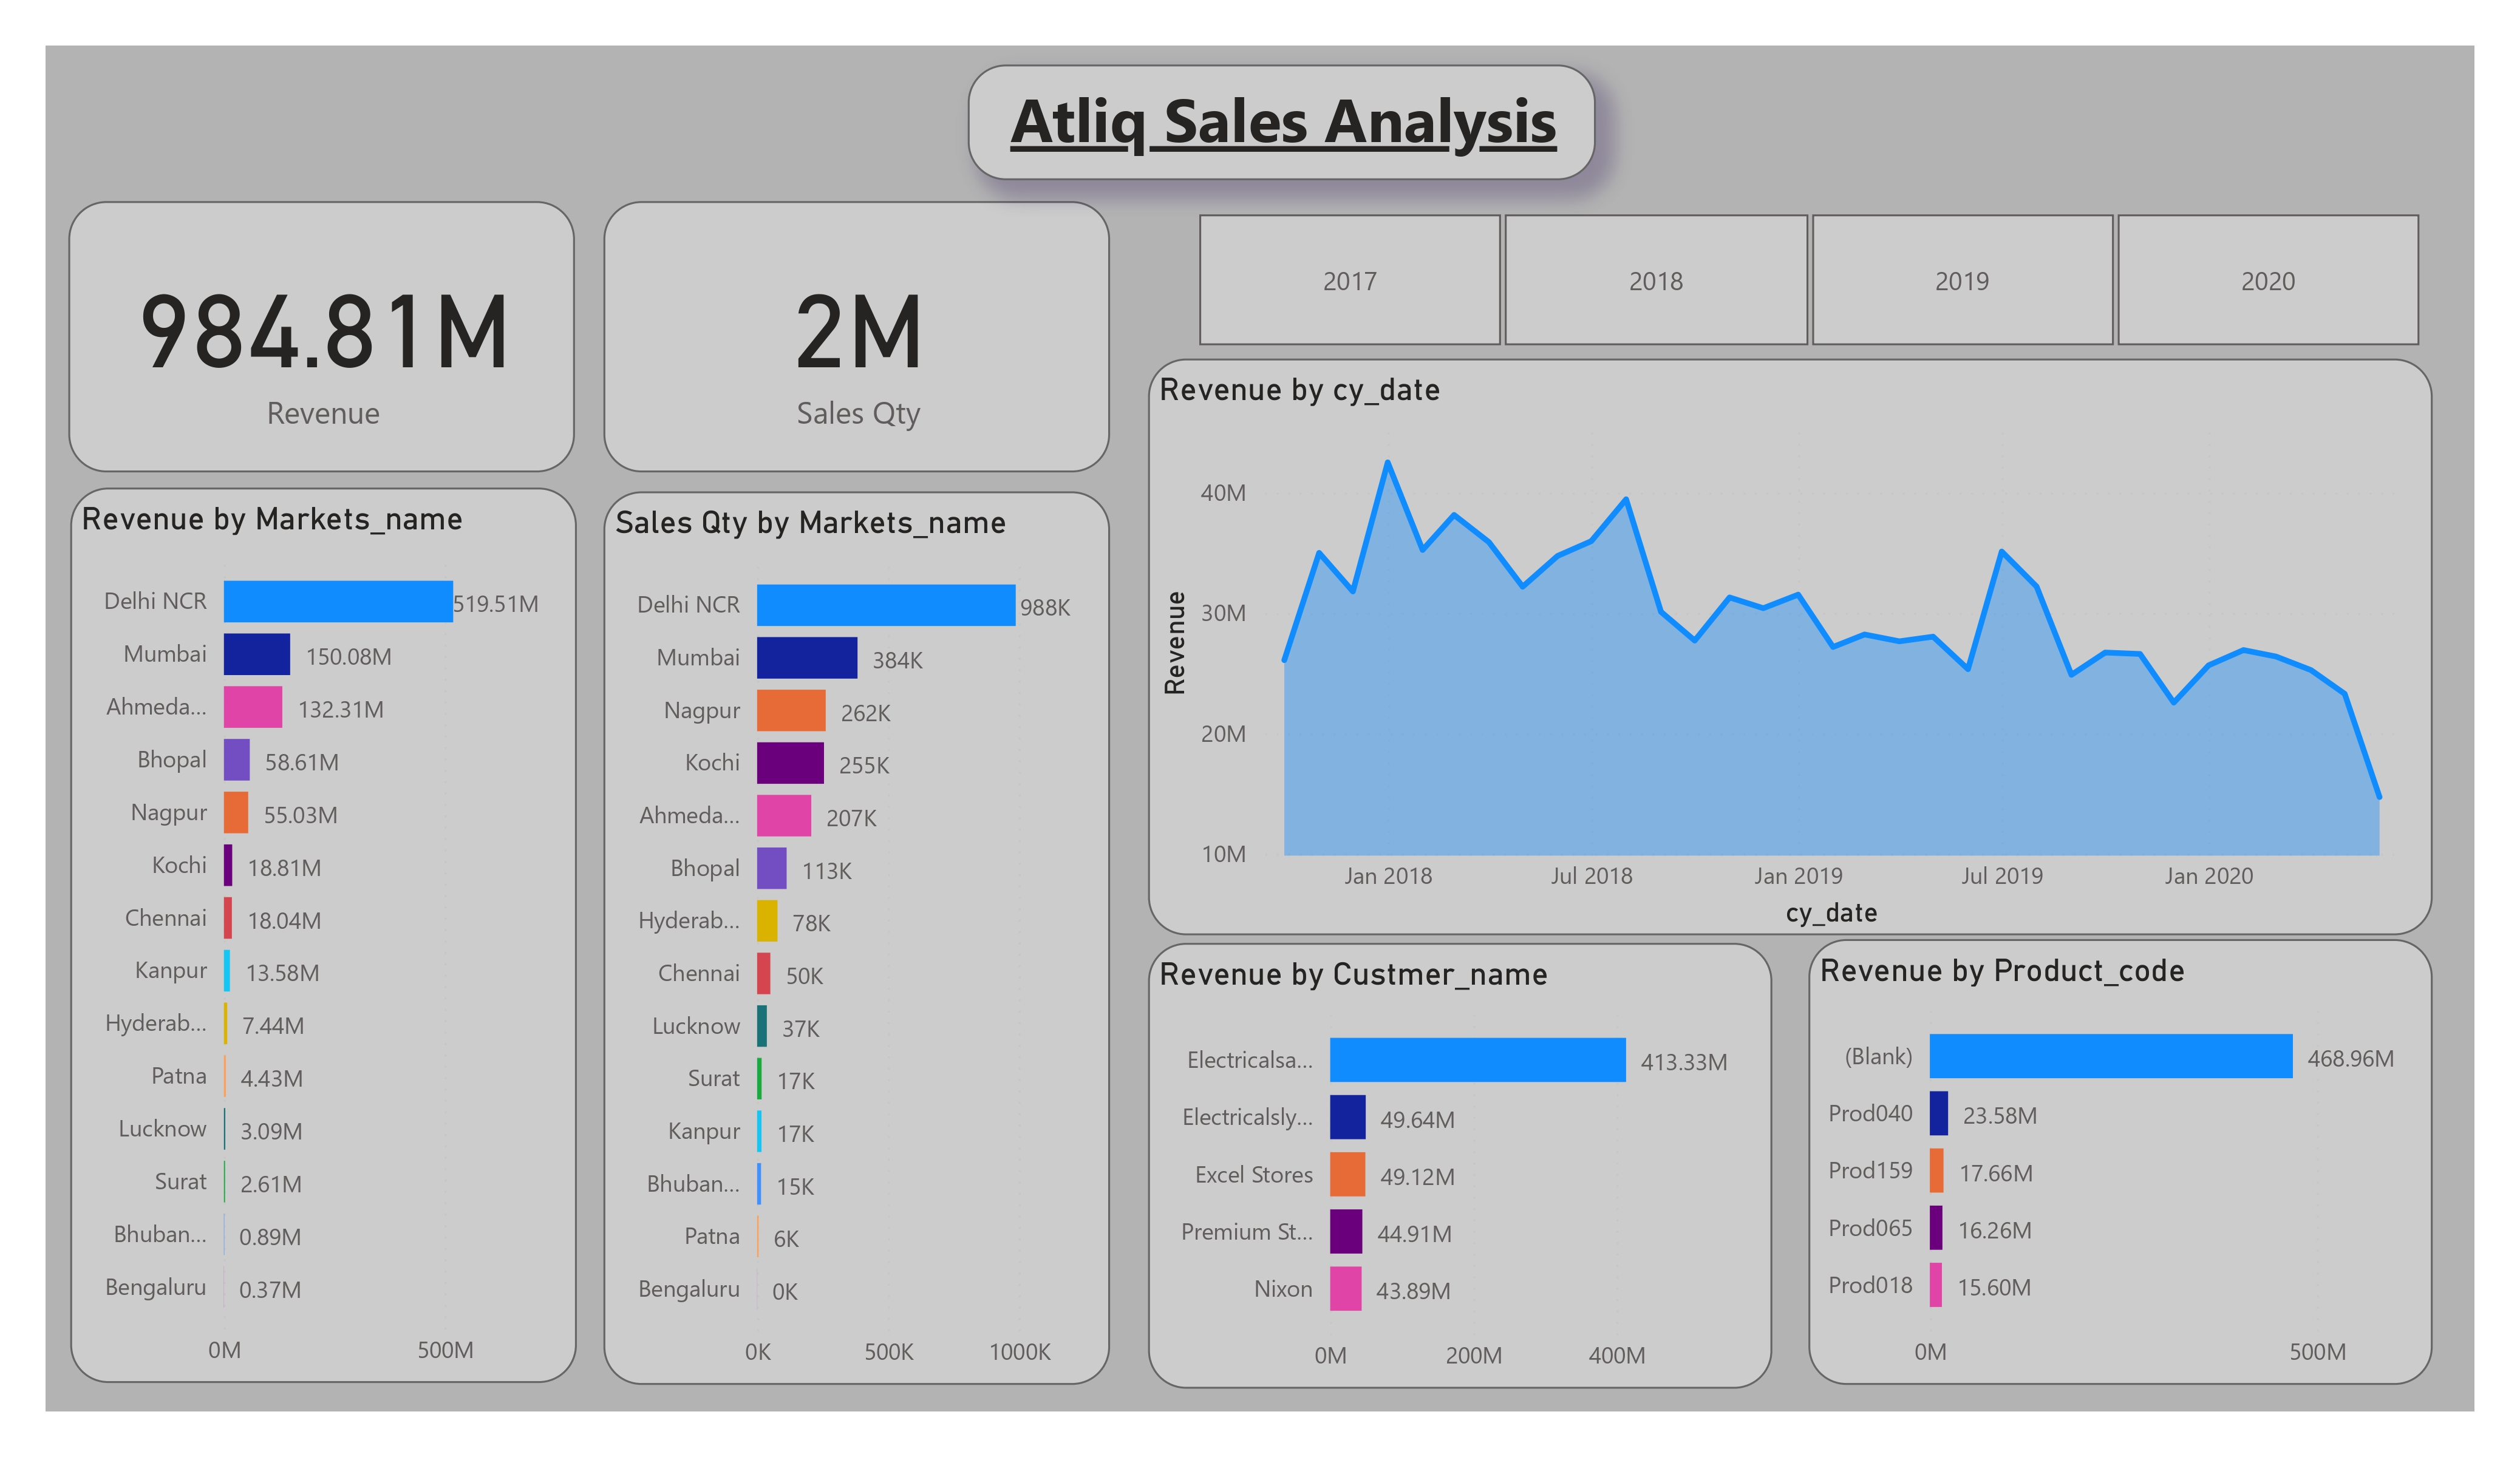

The page's visual inventory and layout, read from the dashboard file:
{"tool":"powerbi","page":{"name":"Page 1","canvas":[1280,720],"ordinal":0},"visuals":[{"type":"card","fields":{"Values":["All Measures.Revenue"]},"box":[12.3,82.5,267.1,142.8],"z":0},{"type":"card","fields":{"Values":["All Measures.Sales Qty"]},"box":[294.2,82.5,267.1,142.8],"z":1000},{"type":"barChart","title":"Revenue by Markets_name","fields":{"Category":["sales markets.markets_name"],"Y":["All Measures.Revenue"],"Series":["sales markets.markets_name"]},"box":[12.6,233.4,267.1,472],"z":2000},{"type":"barChart","title":"Sales Qty by Markets_name","fields":{"Category":["sales markets.markets_name"],"Y":["All Measures.Sales Qty"],"Series":["sales markets.markets_name"]},"box":[294.2,235.1,267.1,471.4],"z":3000},{"type":"slicer","fields":{"Values":["sales date.year"]},"box":[582.2,82.5,692.9,82.5],"z":4000},{"type":"barChart","title":"Revenue by Custmer_name","fields":{"Category":["sales customers.custmer_name"],"Y":["All Measures.Revenue"],"Series":["sales customers.custmer_name"]},"box":[580.9,472.6,328.6,235.1],"z":5000},{"type":"barChart","title":"Revenue by Product_code","fields":{"Y":["All Measures.Revenue"],"Category":["sales products.product_code"],"Series":["sales products.product_code"]},"box":[929.2,471.4,328.6,235.1],"z":6000},{"type":"areaChart","fields":{"Category":["sales date.cy_date"],"Y":["All Measures.Revenue"]},"box":[580.9,164.9,676.9,304],"z":7000},{"type":"textbox","box":[486.2,9.8,331.1,61.5],"z":8000}]}

Visuals, with their boxes on the page's 1280x720 design canvas (x1, y1, x2, y2). These are canvas units, not pixel positions in the 2520x1457 screenshot, which may show the page scaled, cropped or inside an application window:
card - All Measures.Revenue: <region>12, 82, 279, 225</region>
card - All Measures.Sales Qty: <region>294, 82, 561, 225</region>
"Revenue by Markets_name" barChart: <region>13, 233, 280, 705</region>
"Sales Qty by Markets_name" barChart: <region>294, 235, 561, 706</region>
slicer - sales date.year: <region>582, 82, 1275, 165</region>
"Revenue by Custmer_name" barChart: <region>581, 473, 910, 708</region>
"Revenue by Product_code" barChart: <region>929, 471, 1258, 706</region>
areaChart - sales date.cy_date x All Measures.Revenue: <region>581, 165, 1258, 469</region>
textbox: <region>486, 10, 817, 71</region>
